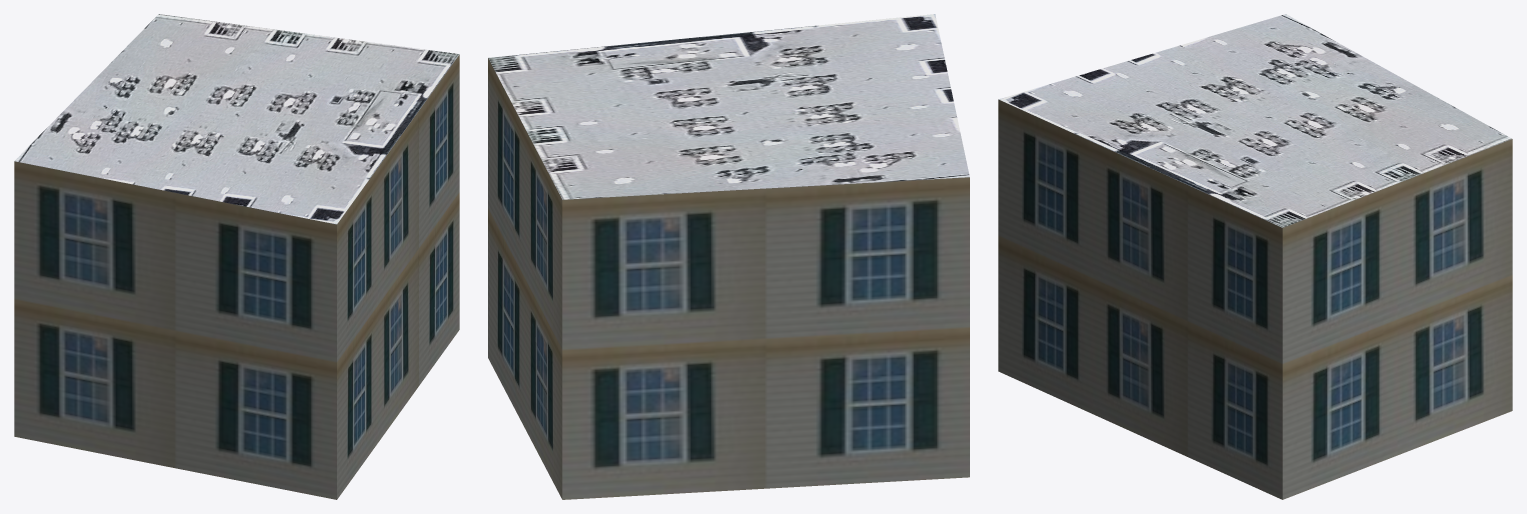
The model's file is ResTex__1596.fbx.
3 views of the same model, side by side, from view 1: azimuth 30°, elevation 25°; view 2: azimuth 150°, elevation 25°; view 3: azimuth 270°, elevation 25° (orthographic). The views are drawn at different scales.
Parts seen in each view (by area): view 1: CityEngineMaterial_7_m, CityEngineMaterial_8_m; view 2: CityEngineMaterial_7_m, CityEngineMaterial_8_m; view 3: CityEngineMaterial_7_m, CityEngineMaterial_8_m.
Boxes of the visible parts, box(x1,y1,x2,y2) form: CityEngineMaterial_7_m: box(14, 55, 459, 499); CityEngineMaterial_8_m: box(14, 14, 459, 224); CityEngineMaterial_7_m: box(488, 58, 969, 499); CityEngineMaterial_8_m: box(488, 14, 969, 199); CityEngineMaterial_7_m: box(998, 99, 1512, 499); CityEngineMaterial_8_m: box(999, 14, 1511, 227).
Size of the model in its own units: 10.12 by 6 by 10.27.
Materials: 2 (2 with a texture image).
